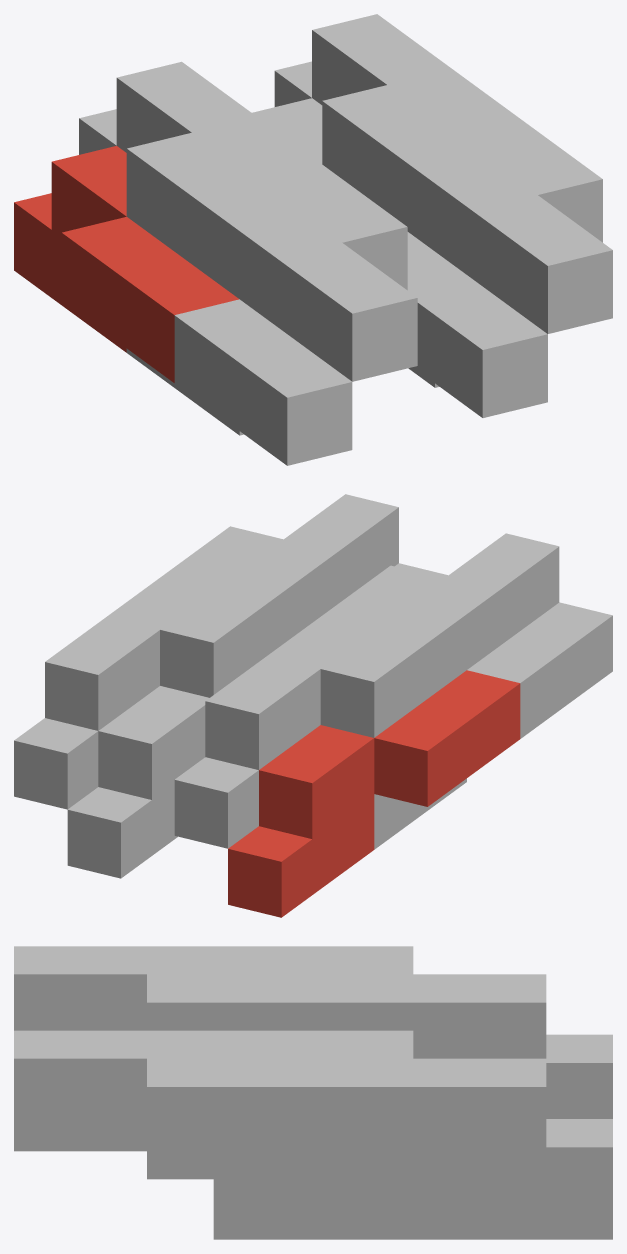
Rendered from tiling.obj.
The picture shows the model from 3 angles, top to bottom: view 1: azimuth 30°, elevation 25°; view 2: azimuth 150°, elevation 25°; view 3: azimuth 270°, elevation 25°; orthographic projection. The views are drawn at different scales.
Visible parts, largest first — view 1: copy_1_domain_4, copy_1_domain_8, copy_1_domain_3, copy_1_domain_7, copy_1_domain_1, copy_1_domain_2, copy_1_domain_6, copy_1_domain_5; view 2: copy_1_domain_1, copy_1_domain_3, copy_1_domain_7, copy_1_domain_5, copy_1_domain_4, copy_1_domain_8, copy_1_domain_2; view 3: copy_1_domain_8, copy_1_domain_7, copy_1_domain_3, copy_1_domain_4, copy_1_domain_6, copy_1_domain_5.
Boxes of the visible parts, left/top/right/bottom form: copy_1_domain_4: left=230, top=144, right=417, bottom=381; copy_1_domain_8: left=425, top=96, right=612, bottom=333; copy_1_domain_3: left=79, top=61, right=304, bottom=298; copy_1_domain_7: left=274, top=14, right=499, bottom=251; copy_1_domain_1: left=14, top=146, right=238, bottom=382; copy_1_domain_2: left=126, top=299, right=352, bottom=465; copy_1_domain_6: left=407, top=251, right=547, bottom=417; copy_1_domain_5: left=252, top=98, right=434, bottom=257; copy_1_domain_1: left=228, top=670, right=520, bottom=917; copy_1_domain_3: left=174, top=601, right=466, bottom=848; copy_1_domain_7: left=14, top=562, right=306, bottom=809; copy_1_domain_5: left=67, top=686, right=208, bottom=878; copy_1_domain_4: left=298, top=533, right=559, bottom=669; copy_1_domain_8: left=138, top=494, right=398, bottom=626; copy_1_domain_2: left=374, top=602, right=612, bottom=849; copy_1_domain_8: left=14, top=1030, right=413, bottom=1207; copy_1_domain_7: left=213, top=1030, right=612, bottom=1207; copy_1_domain_3: left=213, top=946, right=612, bottom=1118; copy_1_domain_4: left=14, top=946, right=346, bottom=1030; copy_1_domain_6: left=14, top=1119, right=413, bottom=1239; copy_1_domain_5: left=413, top=1207, right=612, bottom=1239.
Size of the model in its own units: 6 by 3 by 9.
